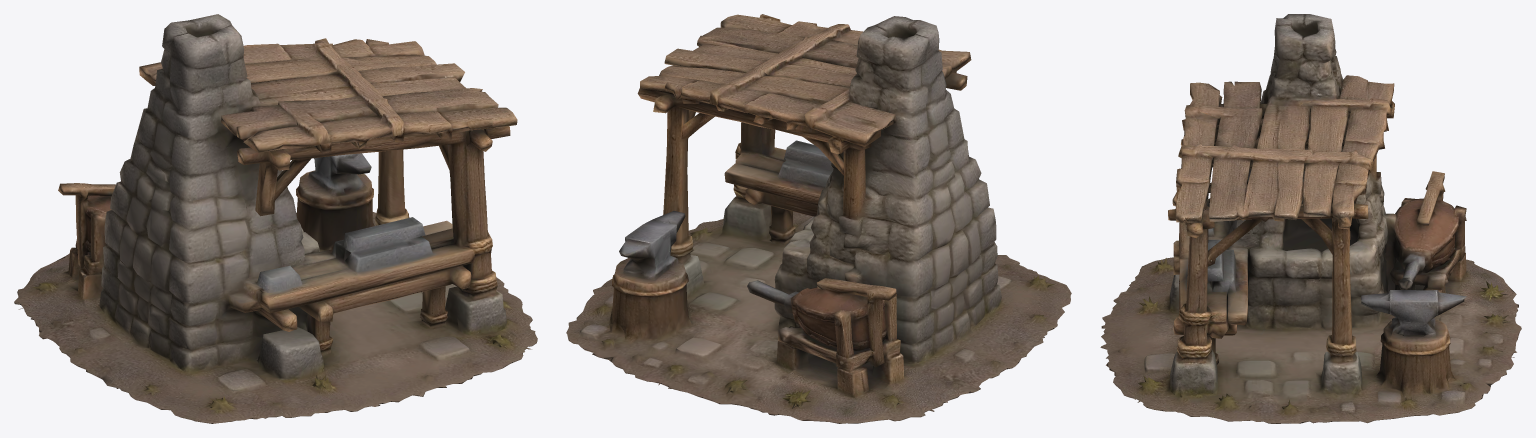
File: demirci-sv1.glb
3 renders of one model, left to right at view 1: azimuth 30°, elevation 25°; view 2: azimuth 150°, elevation 25°; view 3: azimuth 270°, elevation 25°, orthographic. The views are drawn at different scales.
Visible parts, largest first — view 1: tripo_node_095c2784-f19a-4db1-9fff-378729740e2c; view 2: tripo_node_095c2784-f19a-4db1-9fff-378729740e2c; view 3: tripo_node_095c2784-f19a-4db1-9fff-378729740e2c.
Boxes of the visible parts, x1,y1,x2,y2 form: tripo_node_095c2784-f19a-4db1-9fff-378729740e2c: (14,14,537,423); tripo_node_095c2784-f19a-4db1-9fff-378729740e2c: (566,14,1071,423); tripo_node_095c2784-f19a-4db1-9fff-378729740e2c: (1100,14,1521,423).
Bounding box in the file's own units: 0.9968 × 0.727 × 1.
1 material, 1 textured.
